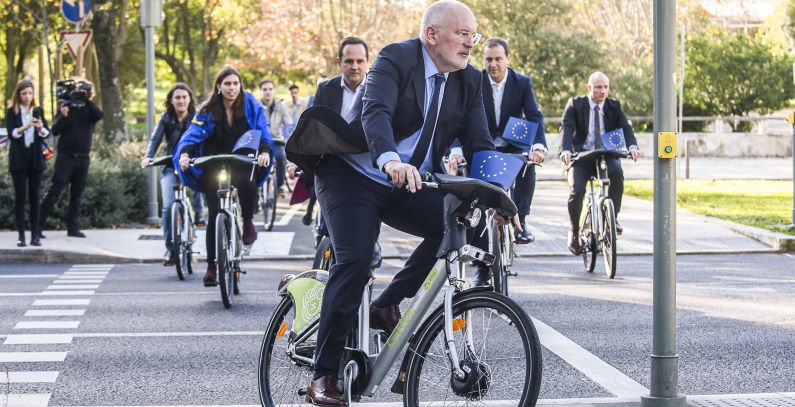commuter: (256, 1, 545, 407), (173, 69, 272, 312), (564, 69, 640, 283), (140, 83, 206, 280)
